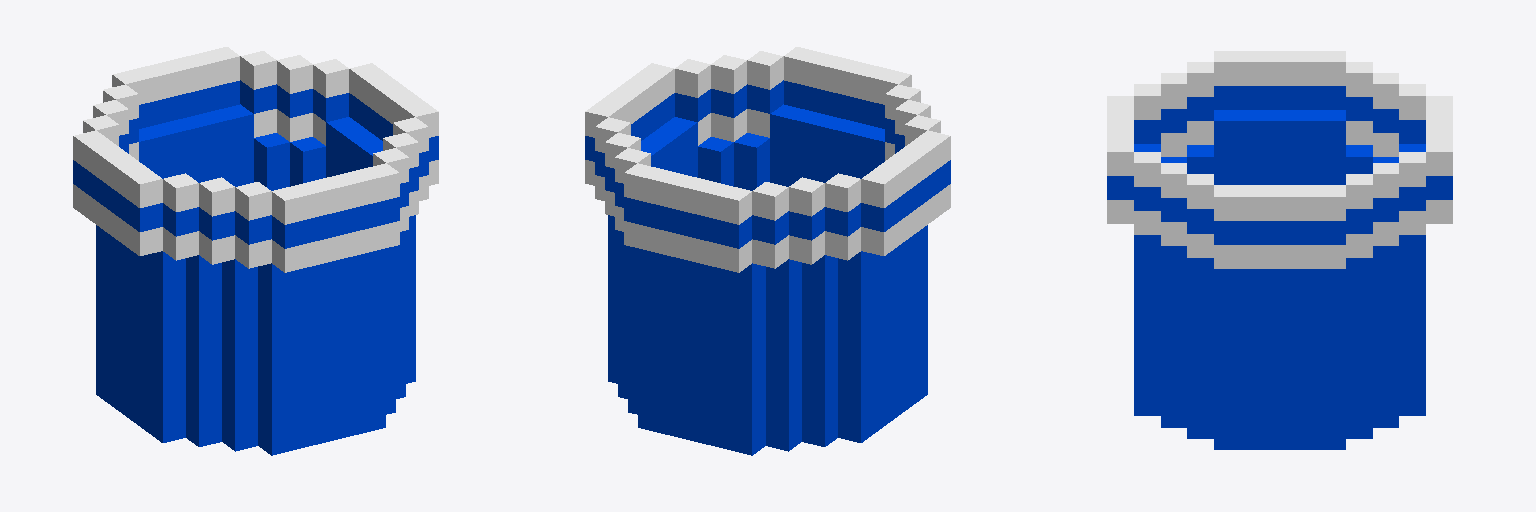
3 views of the same model, side by side, from view 1: azimuth 30°, elevation 25°; view 2: azimuth 150°, elevation 25°; view 3: azimuth 270°, elevation 25° (orthographic).
Bounding box in the file's own units: 13 × 11 × 13.
Materials: 1 (1 with a texture image).